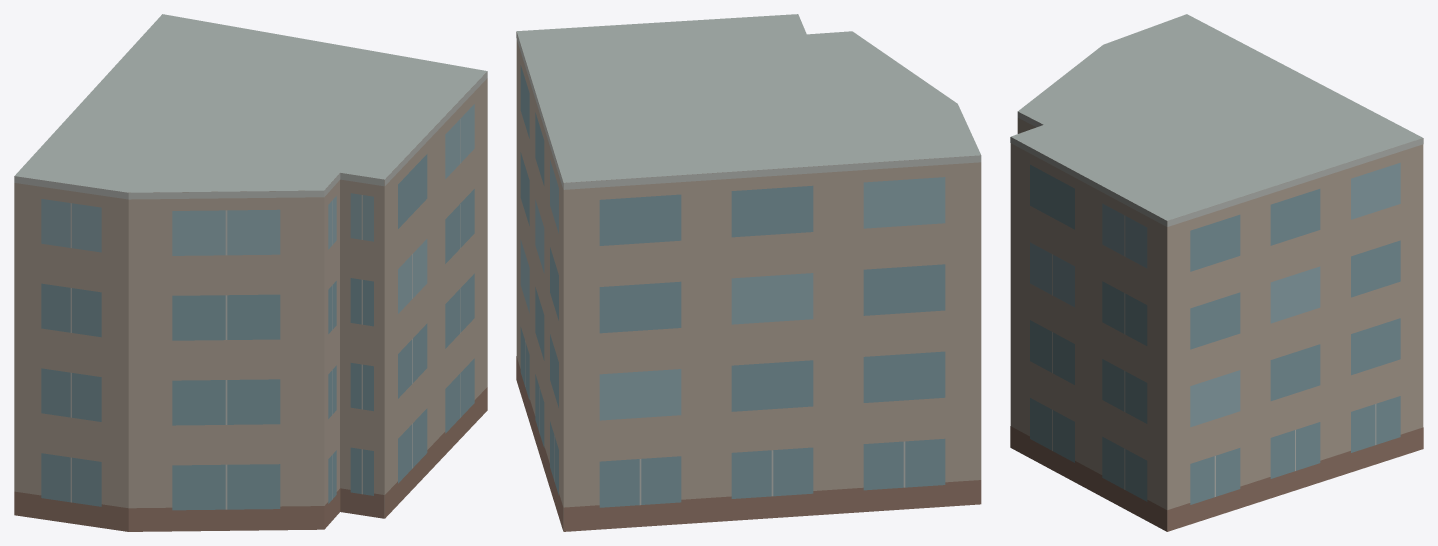
The model's file is survey-upis-32913910.glb.
3 views of the same model, side by side, from view 1: azimuth 30°, elevation 25°; view 2: azimuth 150°, elevation 25°; view 3: azimuth 270°, elevation 25° (orthographic). The views are drawn at different scales.
Parts seen in each view (by area): view 1: survey-upis-32913910.tmp; view 2: survey-upis-32913910.tmp; view 3: survey-upis-32913910.tmp.
Part boxes in pixels (x1,y1,x2,y2): survey-upis-32913910.tmp: (14,14,487,531); survey-upis-32913910.tmp: (516,14,981,531); survey-upis-32913910.tmp: (1010,14,1423,531).
Size of the model in its own units: 17.42 by 12.2 by 14.69.
